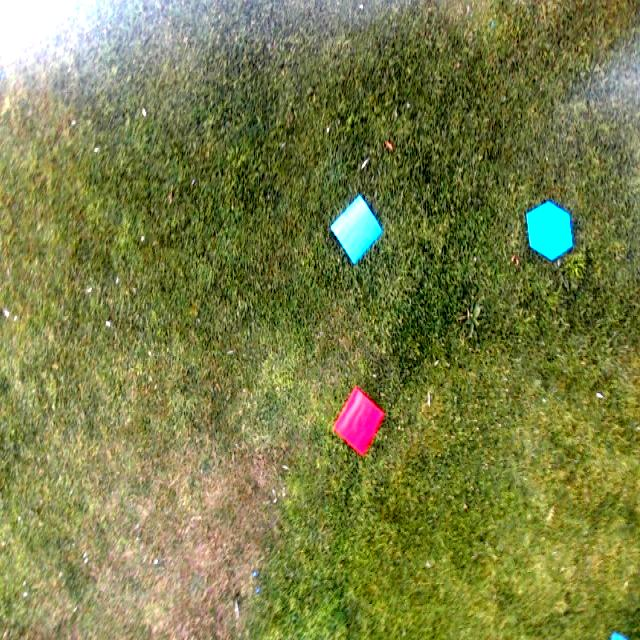blue_hexagon: (526, 201, 574, 261)
blue_square: (330, 193, 382, 266)
red_square: (331, 385, 384, 457)
